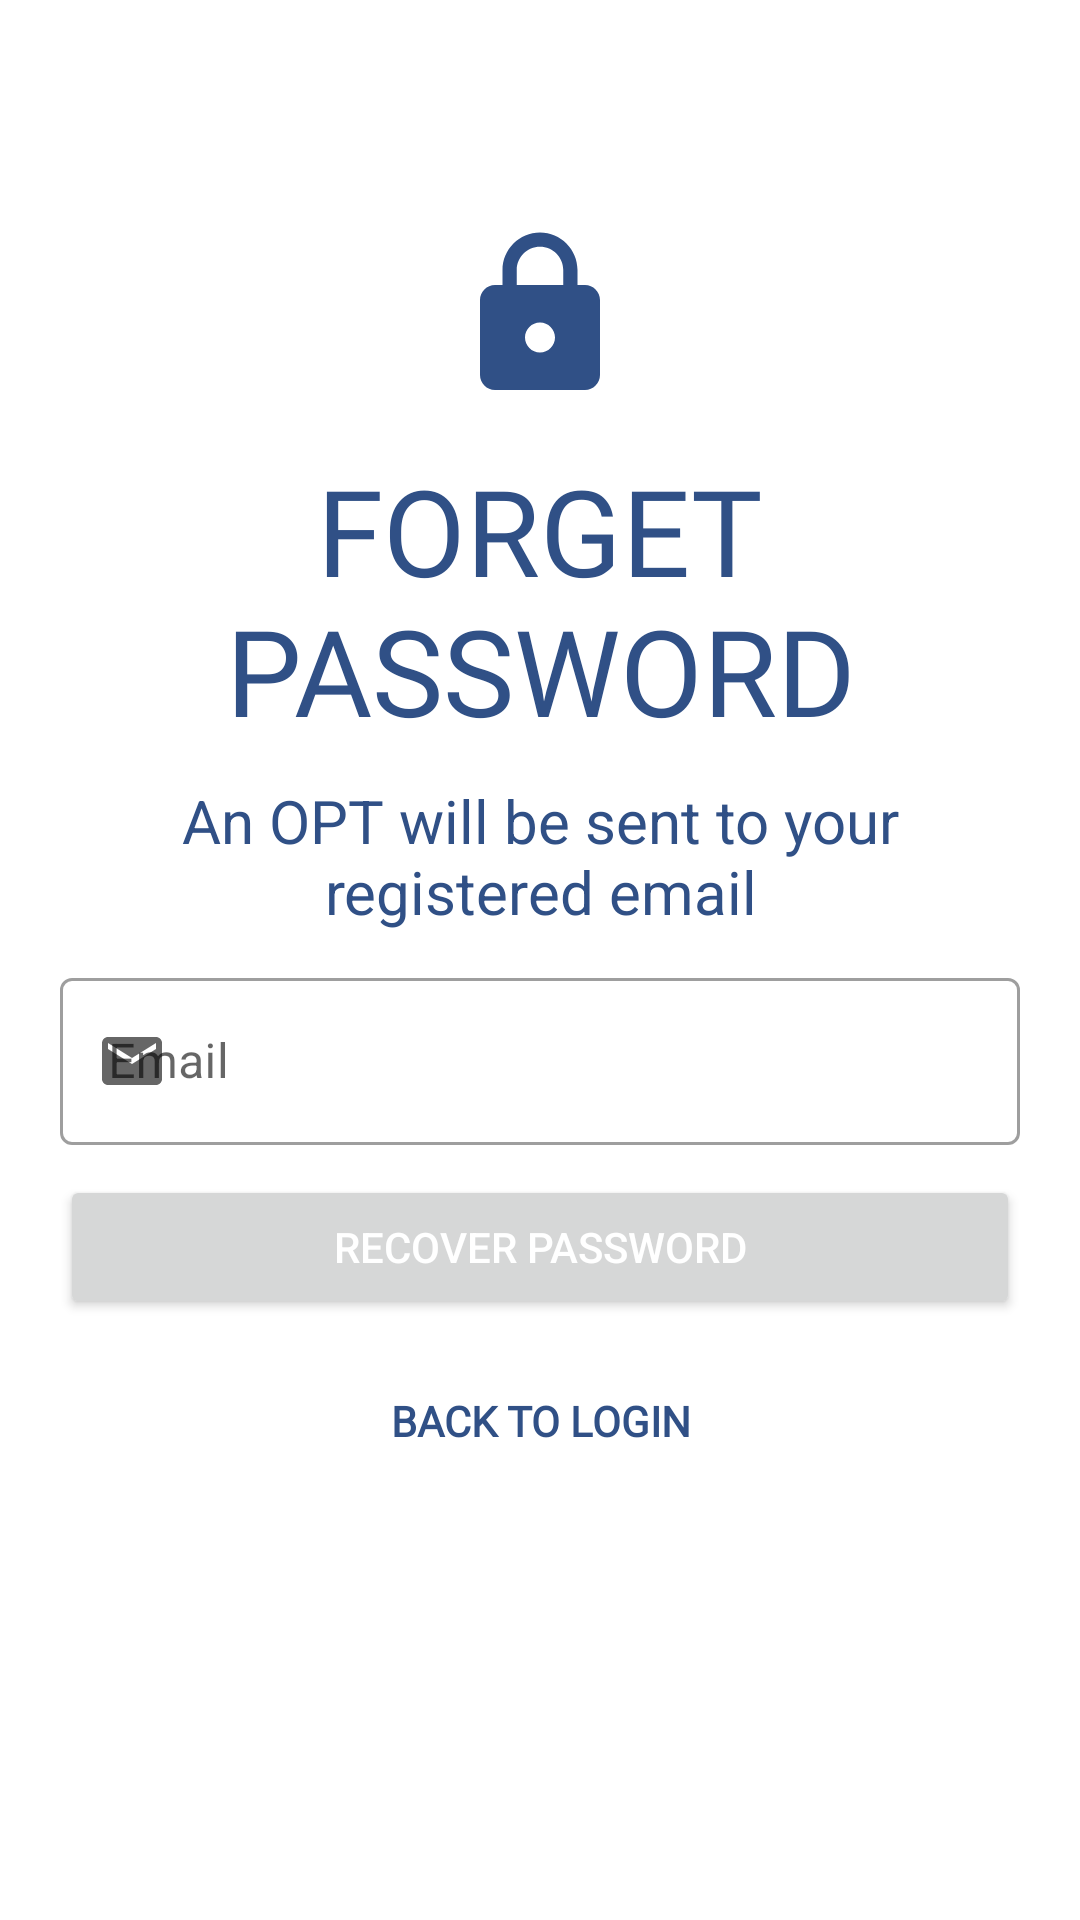

Screen size 1080px x 1920px. Icon name, then its center in pixels as [x,y]:
pwd lock: [540,311]
